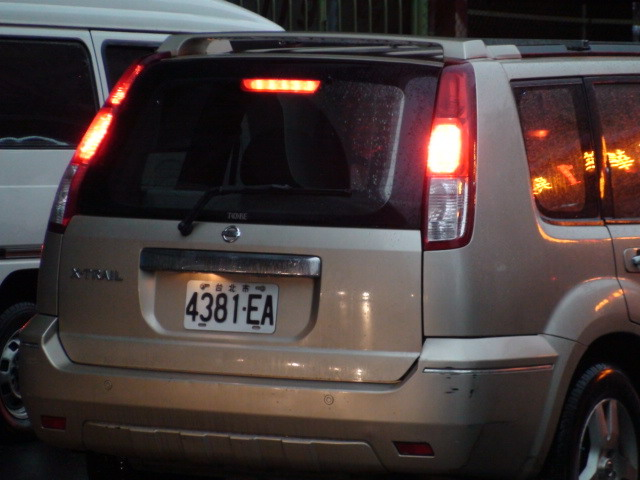plate: (181, 275, 281, 339)
